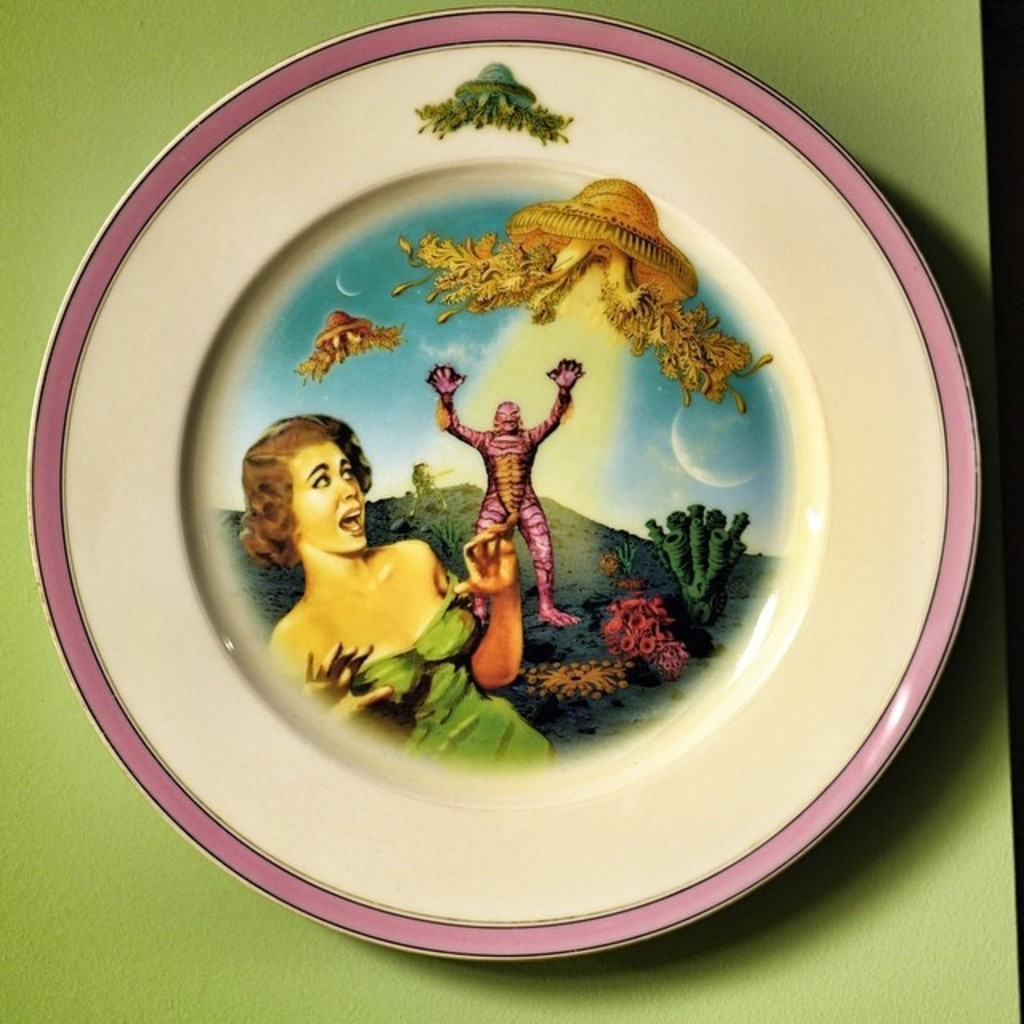plate: (22, 0, 980, 966)
